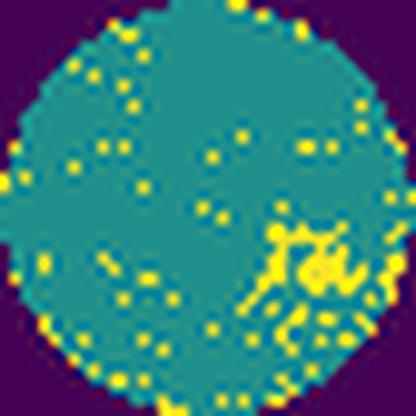Edge-Loc: (236, 222, 366, 314)
